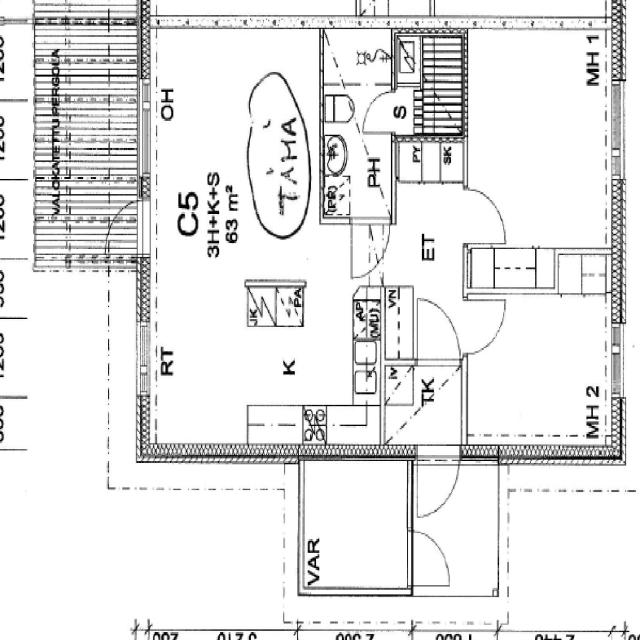door: (412, 446, 462, 522), (413, 293, 461, 365), (464, 181, 511, 246), (409, 524, 454, 590), (464, 293, 509, 357), (350, 220, 390, 277), (362, 88, 396, 135)
window: (605, 76, 630, 184), (136, 70, 156, 184), (133, 317, 154, 400), (606, 320, 627, 402)
zone: (146, 22, 384, 452), (465, 30, 617, 254), (464, 289, 619, 451), (319, 16, 395, 220), (300, 457, 413, 594), (246, 80, 306, 234), (383, 362, 464, 444), (321, 24, 395, 89), (358, 1, 433, 23)
